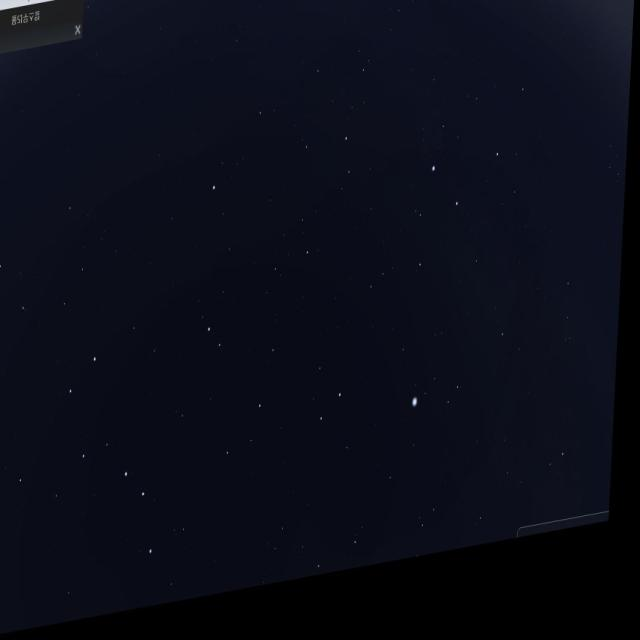cygnus: (403, 157, 525, 389)
lyra: (406, 370, 472, 456)
ursa_major: (67, 346, 172, 590)
